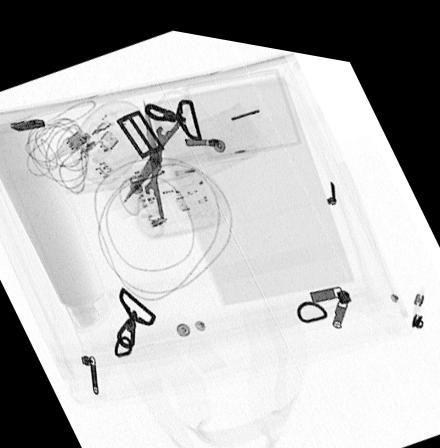Scissors: (120, 88, 189, 235)
